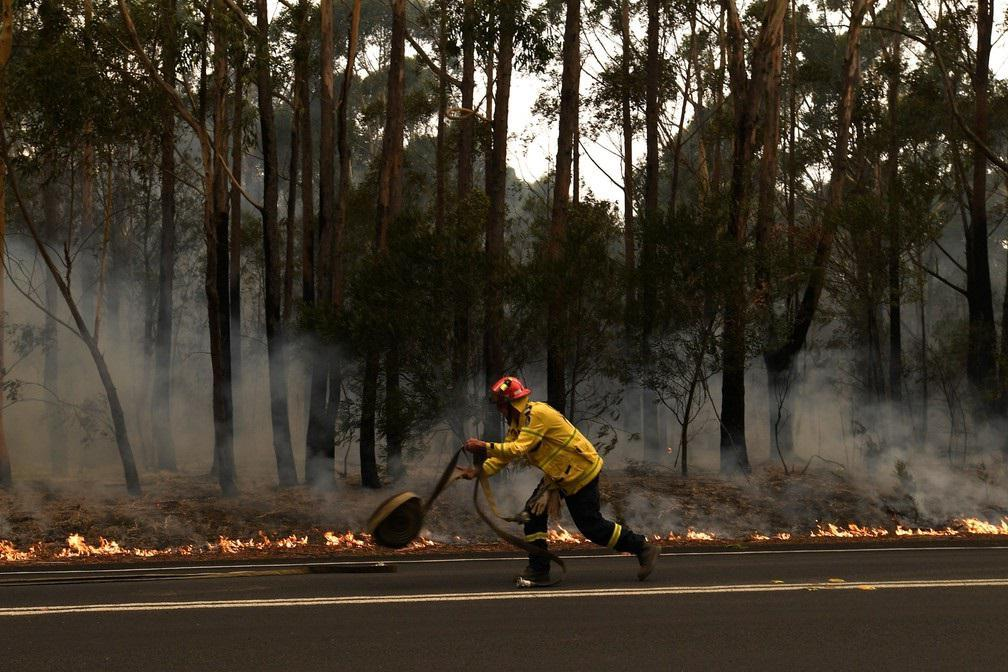Fire: (811, 515, 1007, 539), (56, 532, 163, 558), (215, 531, 314, 551), (653, 526, 718, 544), (326, 528, 368, 550), (4, 538, 34, 564), (549, 530, 594, 545), (753, 531, 793, 542)
